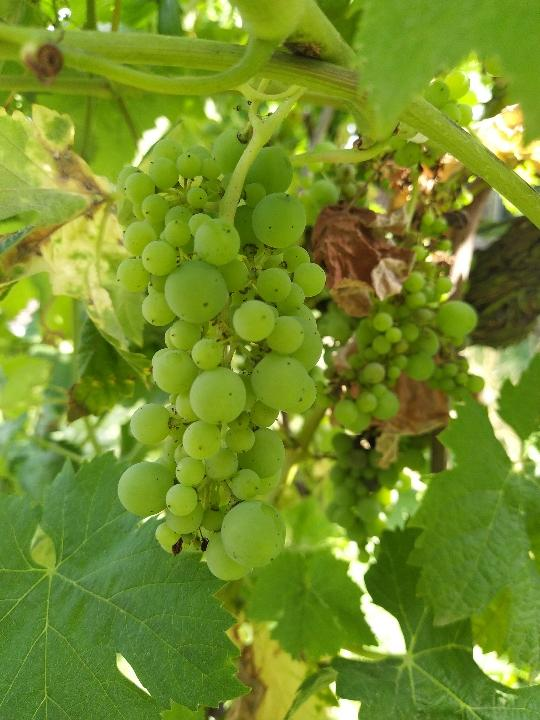grape: (115, 126, 324, 584)
